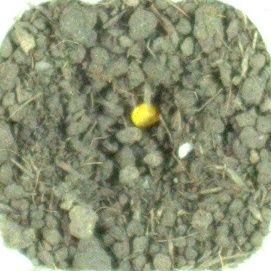pepper seed: (48, 37, 211, 167)
